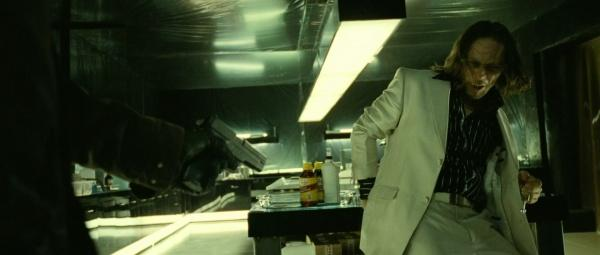Gun: (185, 115, 268, 193)
